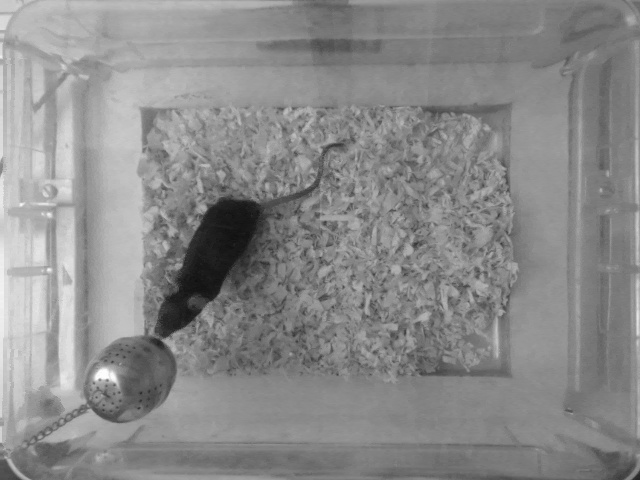mice: (156, 143, 344, 342)
